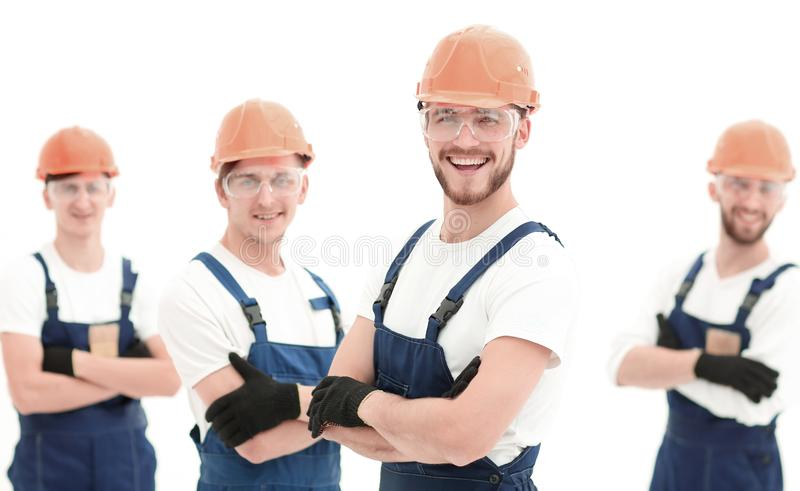casco: (410, 22, 543, 117), (206, 95, 317, 174), (703, 118, 797, 185), (33, 126, 121, 182)
